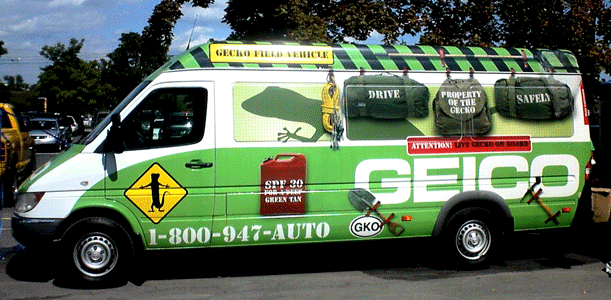geico: (350, 151, 583, 207)
